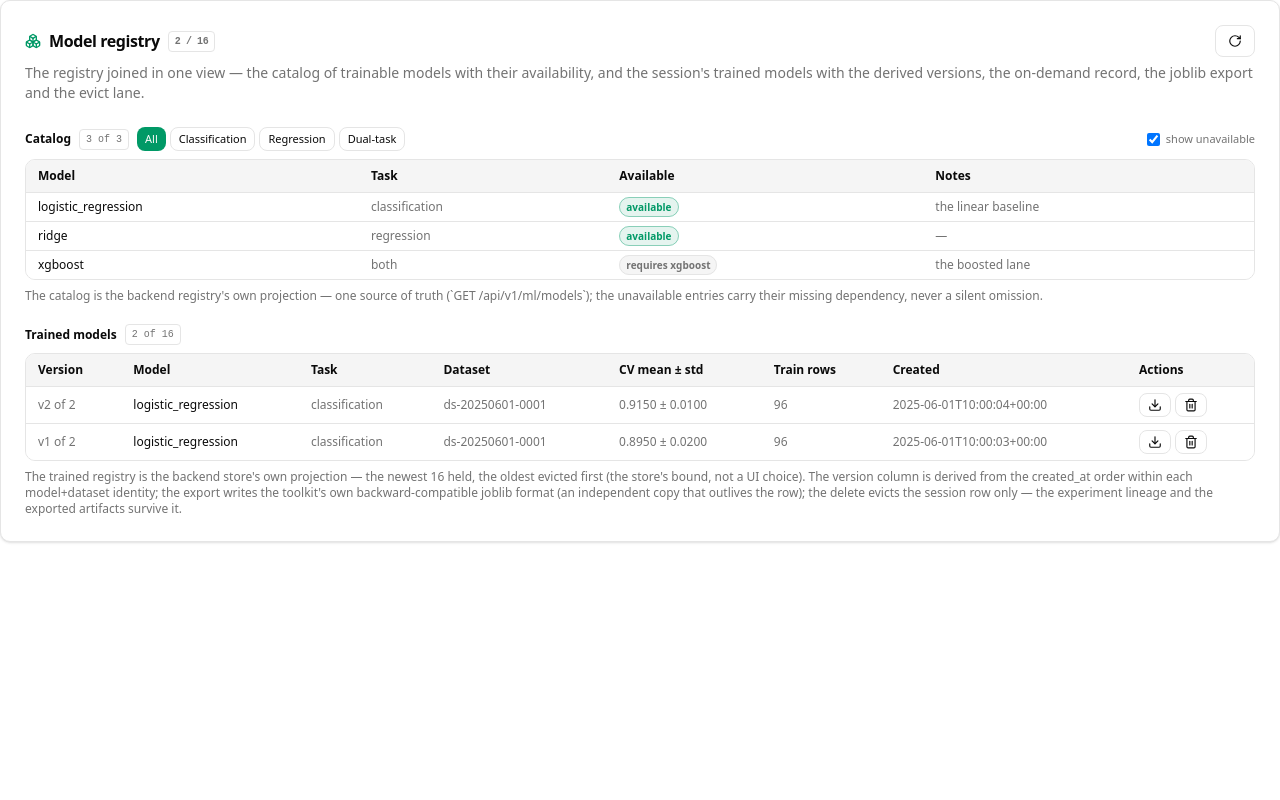
ModelRegistry (part16 §15.3) › evicts on the two-click confirm — the row leaves, the status states the remainder
Expected: the text "2 / 16" is shown, [168,30,215,52]
Click the button named "delete logistic_regression from the session registry" in the row of "0.9150 ± 0.0100": [1191, 405] box [1175,393,1207,417]
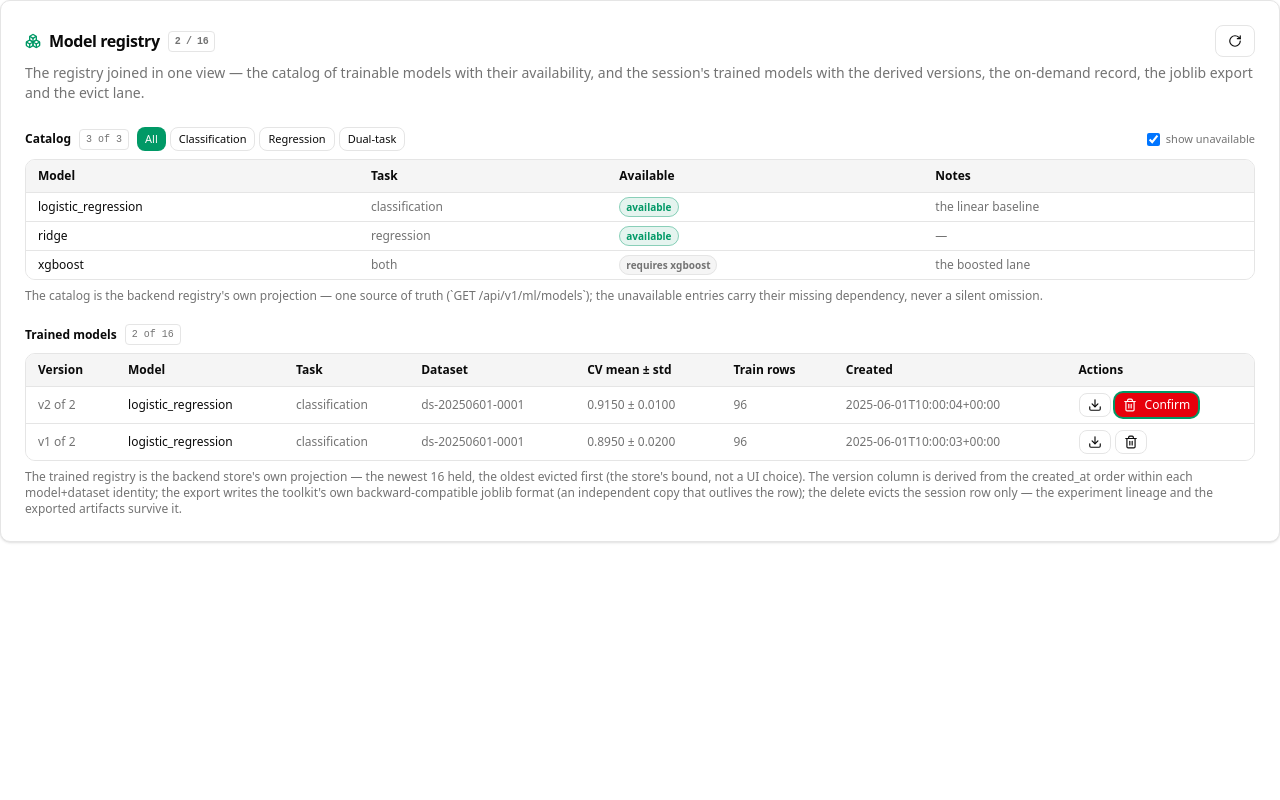
// the armed confirm — the same button re-clicked executes
Click the button with aria-label "delete logistic_regression from the session registry": [1156, 405] box [1114,393,1198,417]
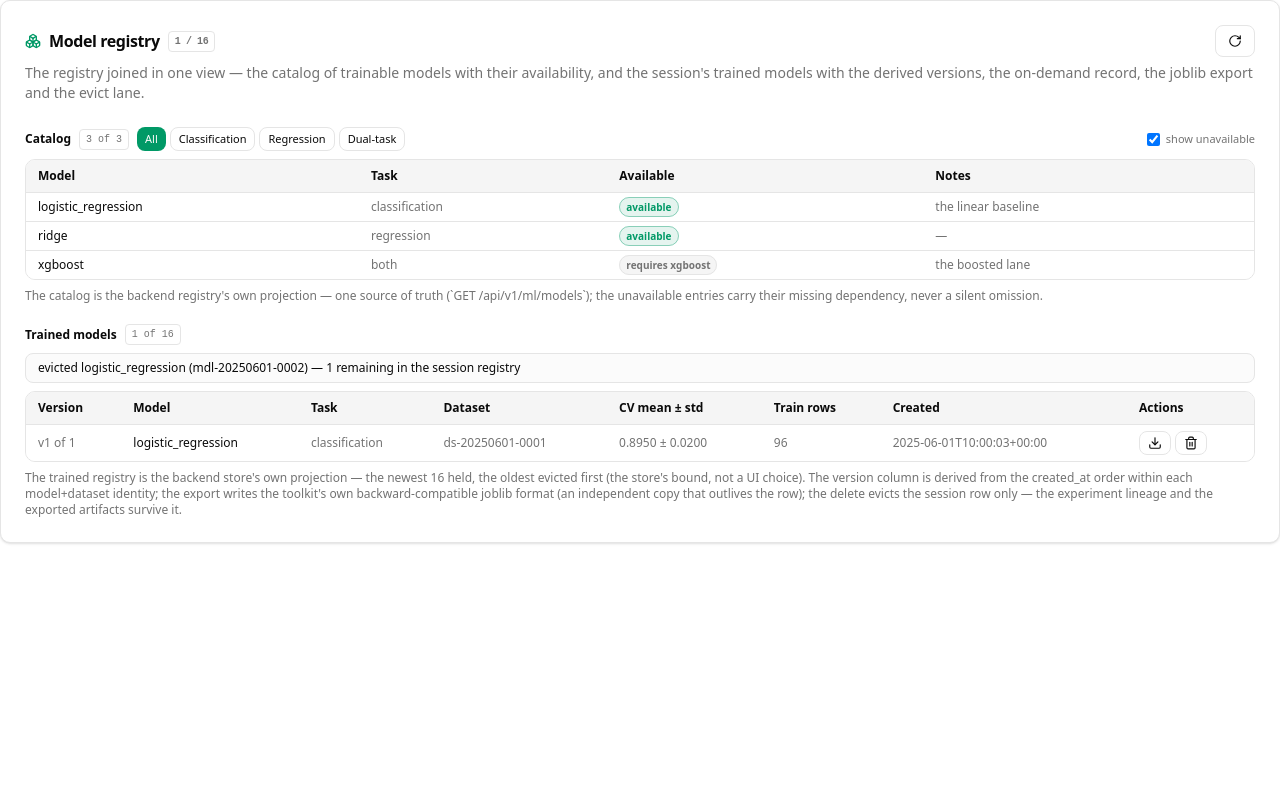
Result: the text "1 remaining" is shown at [38,359,520,376]
Result: the text "1 / 16" is shown at [168,30,215,52]
